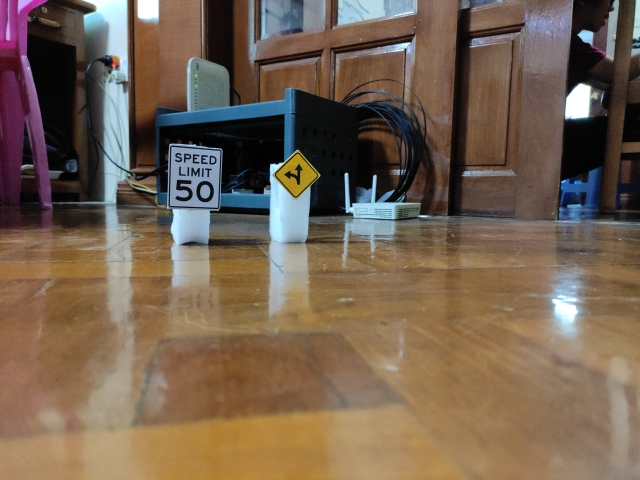Speed Limit 50: (168, 144, 223, 212)
Straight Or Left Sign: (273, 151, 320, 199)
